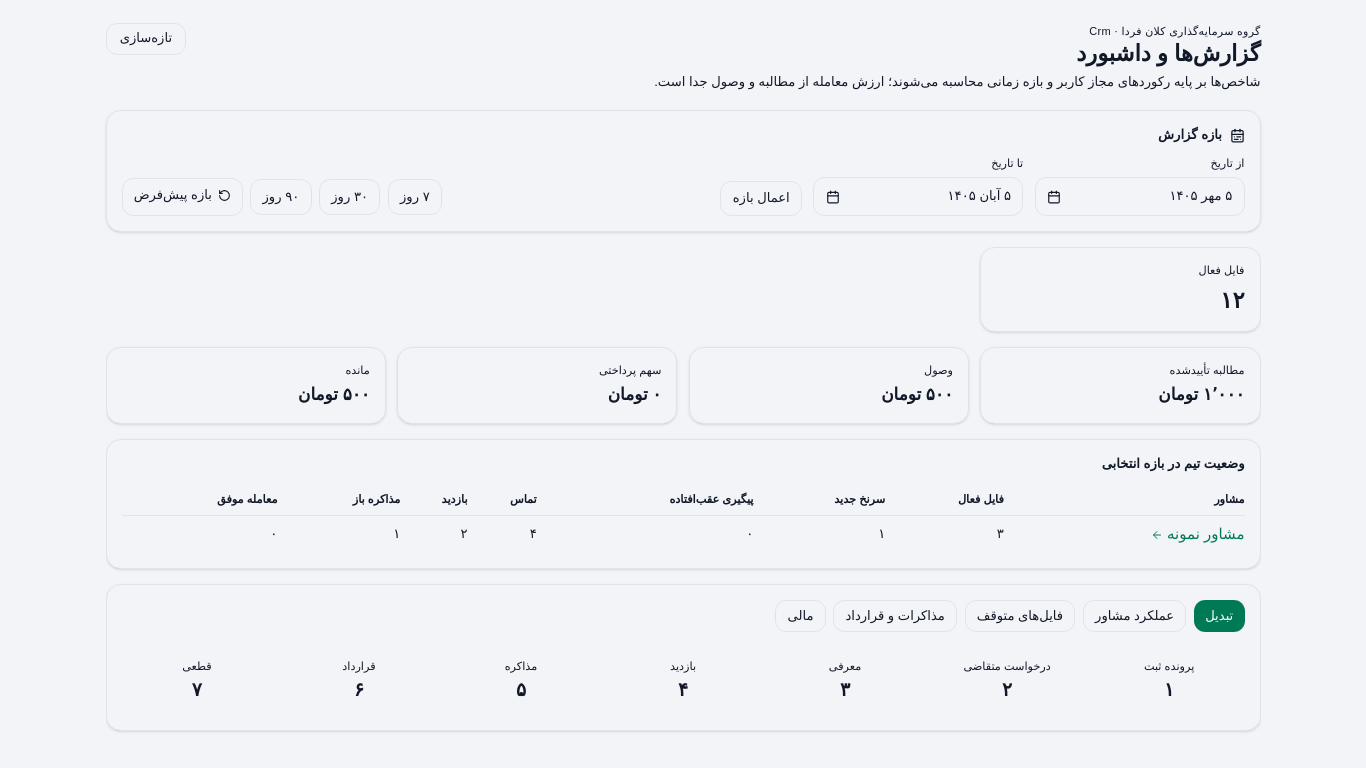
Test: reports page filters › keeps every report table inside its own horizontal scroll area
Click the tab "عملکرد مشاور" at (1135, 616), box [1083,600,1186,632]
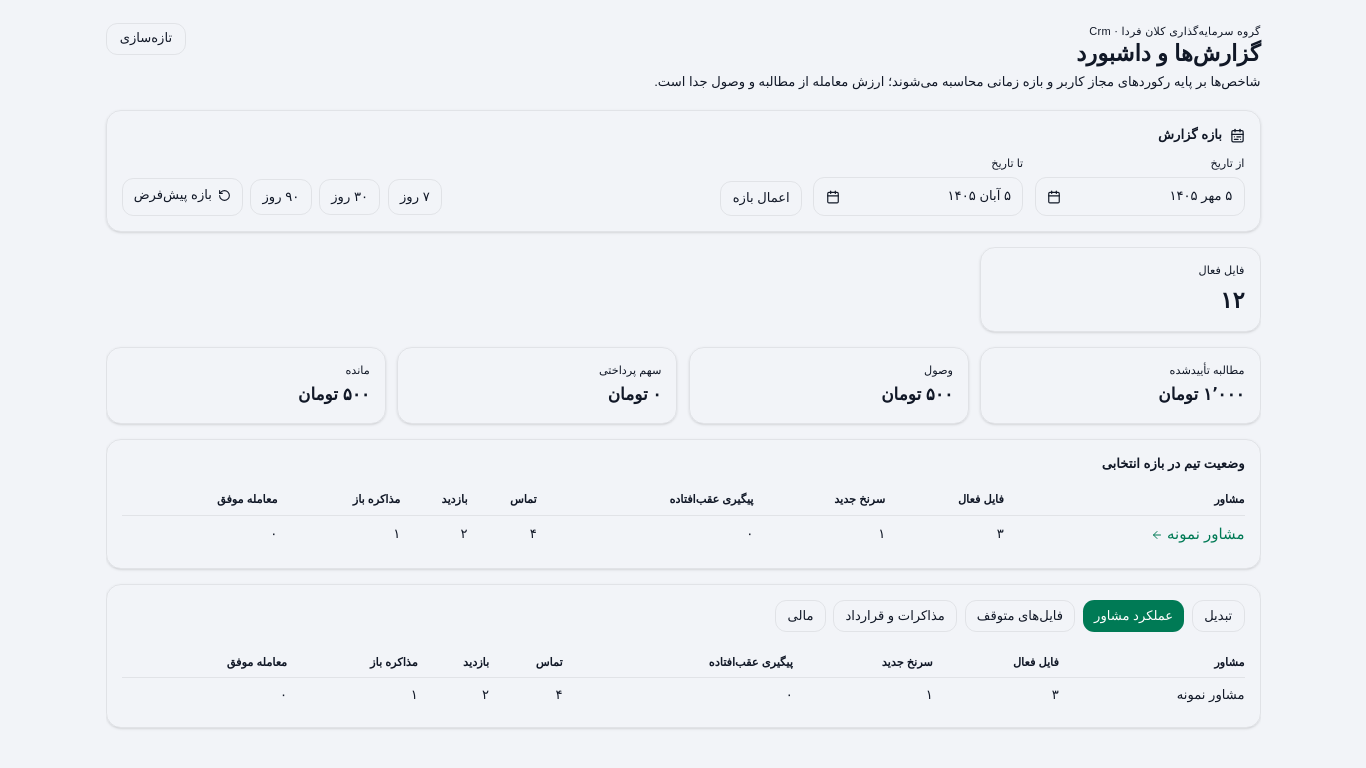
Click the tab "مذاکرات و قرارداد" at (895, 616), box [833,600,957,632]
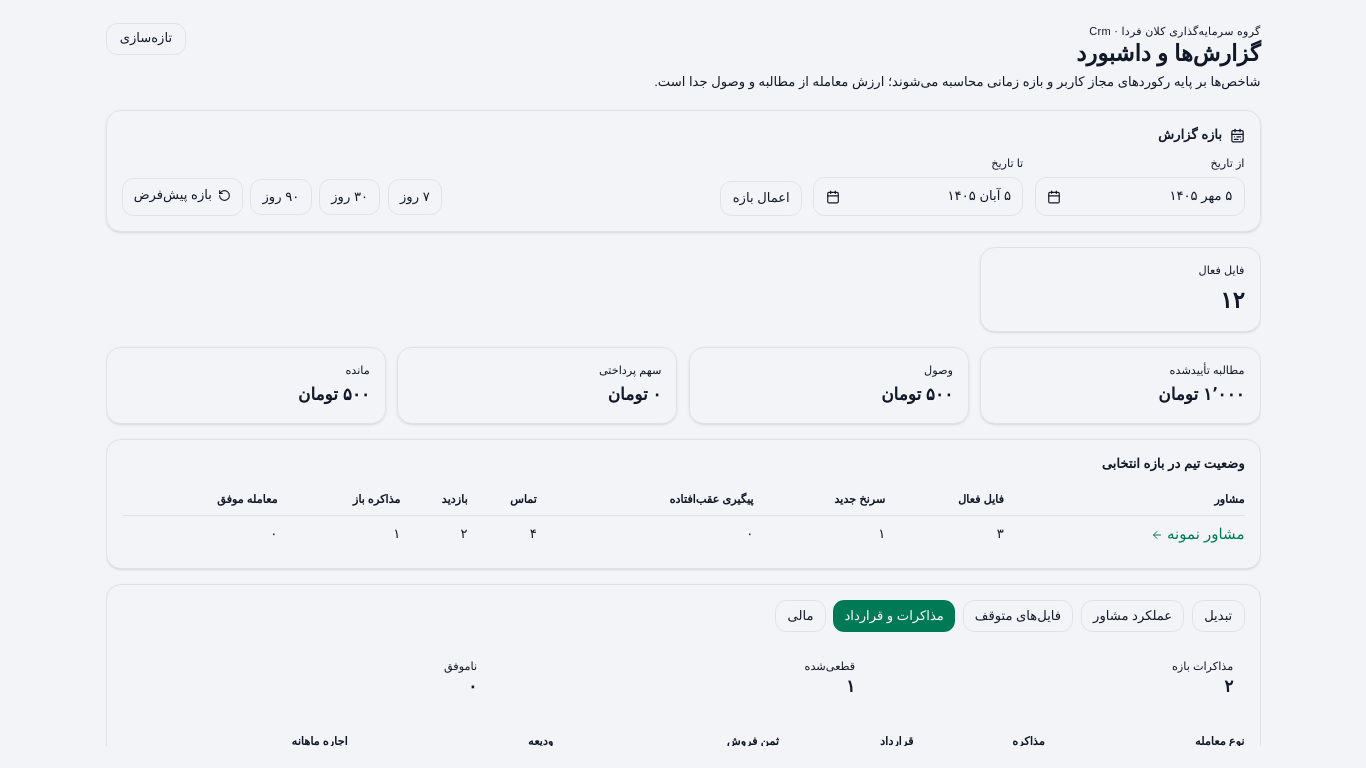
Click the tab "فایل‌های متوقف" at (1018, 616), box [963,600,1073,632]
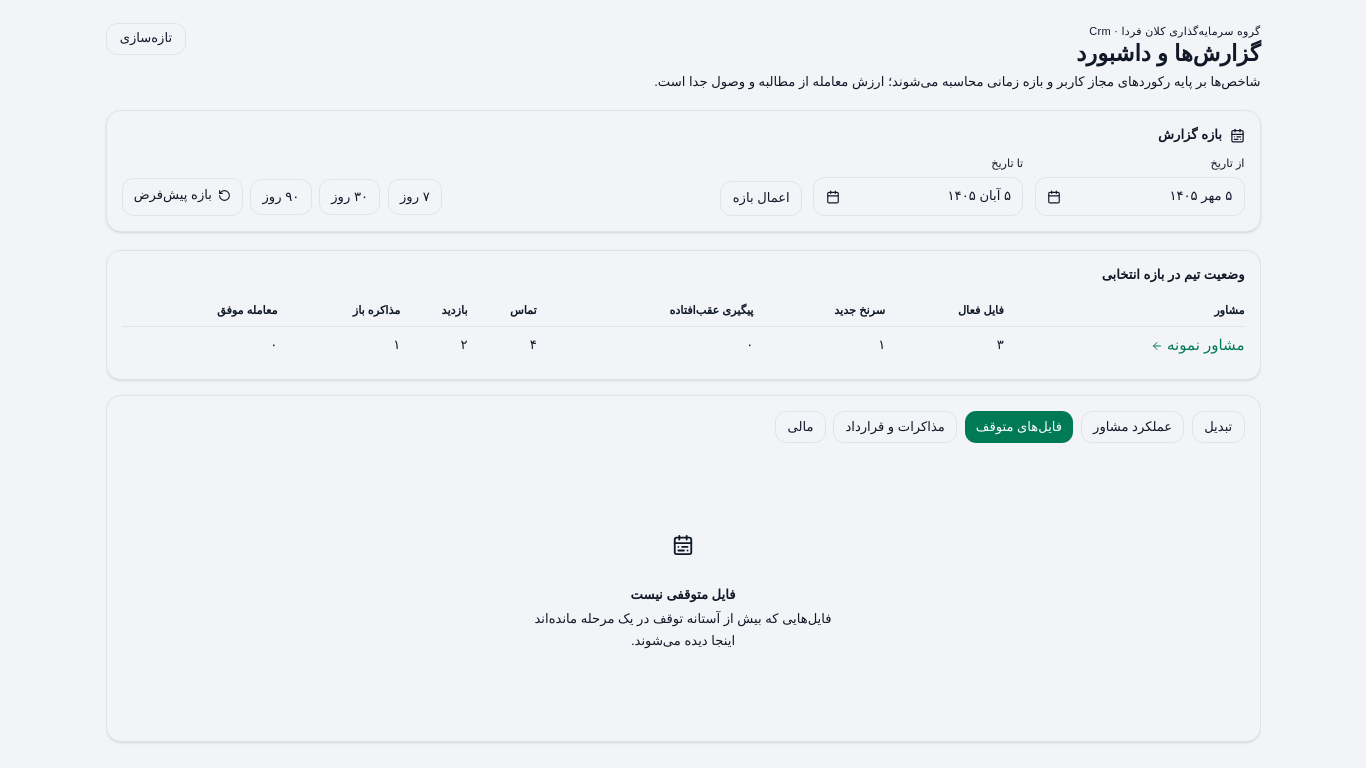
Expected: the heading "فایل متوقفی نیست" is shown, [631,586,736,605]
